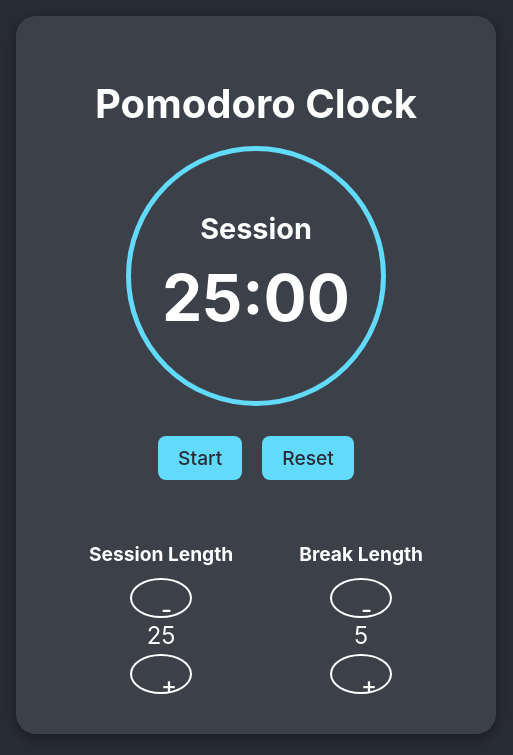
it: Pomodoro App › allows changing session and break lengths when timer is not active
// Get all buttons with "+" text content. The first is for Session, the second is for Break.
Click the button "+" below "Session Length": (161, 674) x1=130 y1=654 x2=192 y2=694
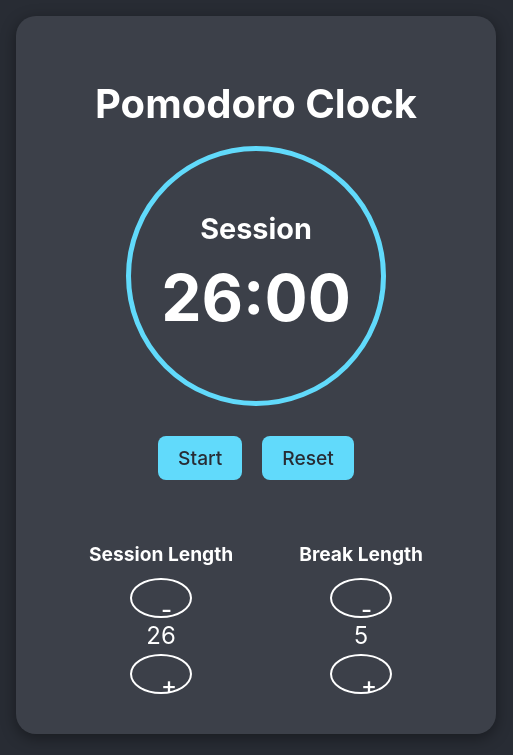
Click the button "+" below "Break Length": (361, 674) x1=330 y1=654 x2=392 y2=694
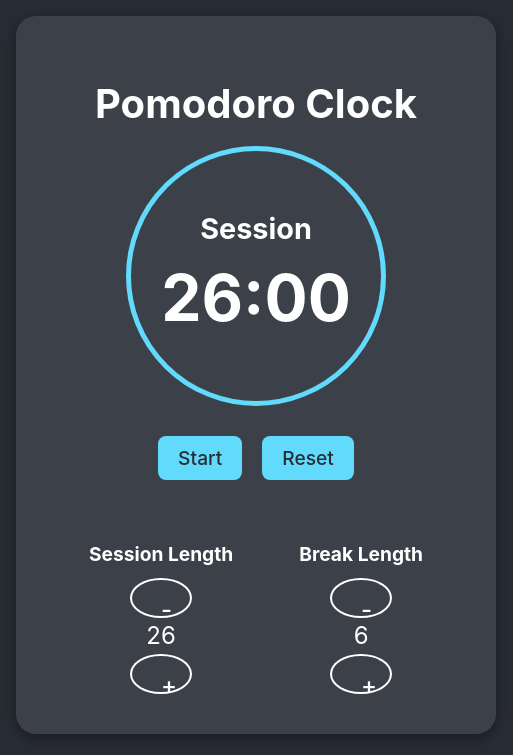
Check: the text "26" is shown, box x1=146 y1=621 x2=176 y2=650
Check: the text "26:00" is shown, box x1=161 y1=250 x2=351 y2=346
Check: the text "6" is shown, box x1=354 y1=621 x2=369 y2=650
